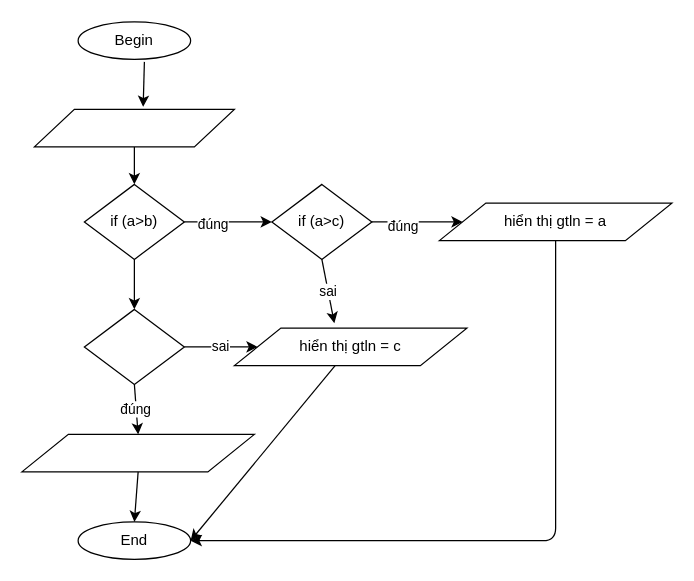
The diagram is 694 pixels wide and 581 high, and some of its shapes have lost their labels. The box of each missing label's shape, as (x1, y1, x2, y2) in pixels:
hiển thị gtln = b: (21, 433, 254, 472)
if (b>c): (83, 308, 184, 384)
Nhập a, b, c: (33, 108, 234, 147)
